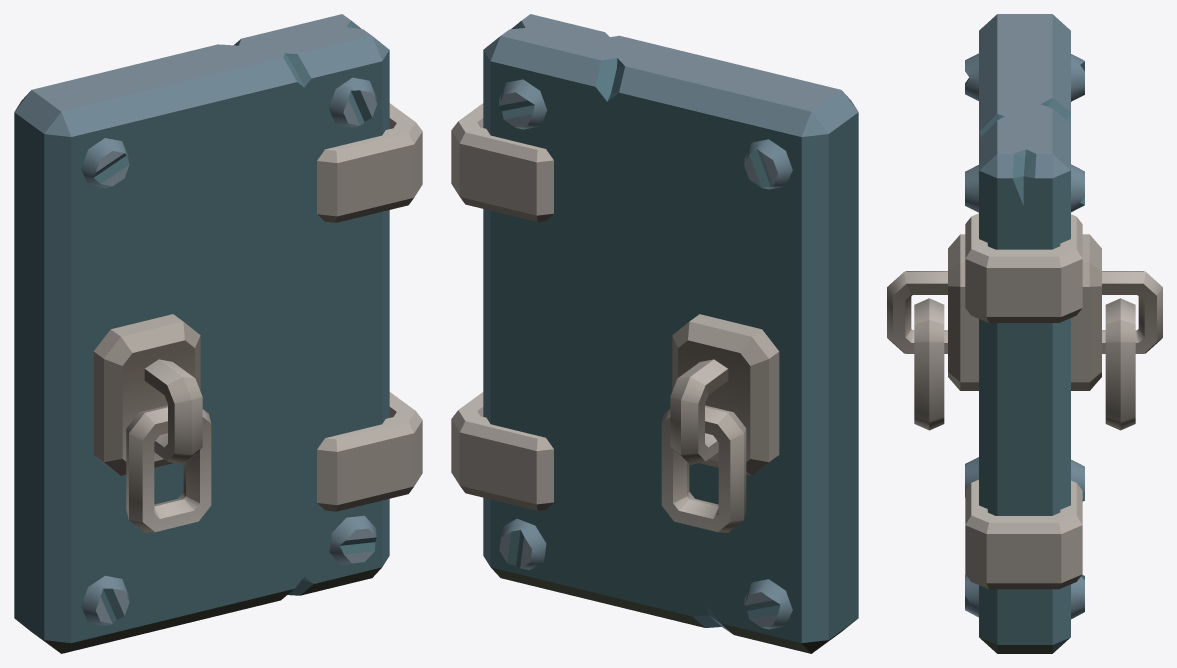
The model's file is m_deco_doorMetal_chain.FBX.
3 views of the same model, side by side, from view 1: azimuth 30°, elevation 25°; view 2: azimuth 150°, elevation 25°; view 3: azimuth 270°, elevation 25° (orthographic). The views are drawn at different scales.
Parts seen in each view (by area): view 1: m_deco_doorMetal_chain; view 2: m_deco_doorMetal_chain; view 3: m_deco_doorMetal_chain.
Boxes of the visible parts, left/top/right/bottom form: m_deco_doorMetal_chain: left=14, top=14, right=422, bottom=653; m_deco_doorMetal_chain: left=451, top=14, right=858, bottom=653; m_deco_doorMetal_chain: left=887, top=14, right=1162, bottom=653.
Size of the model in its own units: 2.16 by 3 by 1.5.
